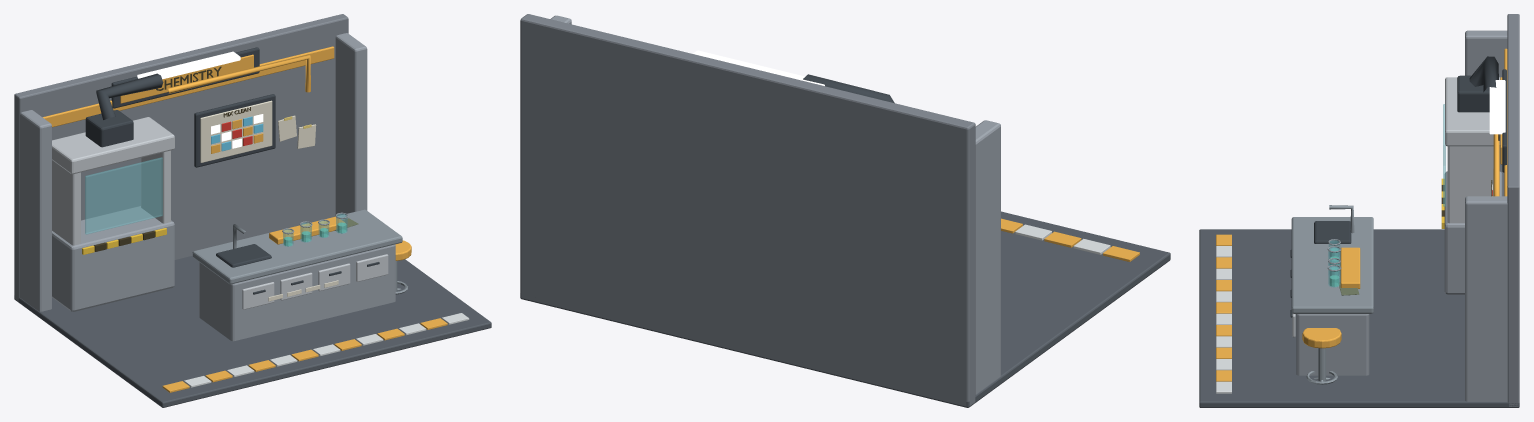
File: department_chemistry_starter.glb
3 views of the same model, side by side, from view 1: azimuth 30°, elevation 25°; view 2: azimuth 150°, elevation 25°; view 3: azimuth 270°, elevation 25° (orthographic). The views are drawn at different scales.
Parts seen in each view (by area): view 1: DEPT_Chemistry__Back_Wall, DEPT_Chemistry__Floor, DEPT_Chemistry__Fume_Hood_Base, DEPT_Chemistry__Island_Body, DEPT_Chemistry__Left_Pilaster, DEPT_Chemistry__Right_Pilaster, DEPT_Chemistry__Island_Worktop, DEPT_Chemistry__Fume_Hood_Glass, DEPT_Chemistry__Fume_Hood_Top, DEPT_Chemistry__Safety_Chart_Paper, DEPT_Chemistry__Back_Wall_Accent, DEPT_Chemistry__Fume_Hood_Post_Left (+14 smaller); view 2: DEPT_Chemistry__Back_Wall, DEPT_Chemistry__Floor, DEPT_Chemistry__Left_Pilaster, DEPT_Chemistry__Fume_Exhaust_Duct, DEPT_Chemistry__Ceiling_Light; view 3: DEPT_Chemistry__Floor, DEPT_Chemistry__Right_Pilaster, DEPT_Chemistry__Island_Worktop, DEPT_Chemistry__Back_Wall, DEPT_Chemistry__Island_Body, DEPT_Chemistry__Fume_Hood_Post_Right, DEPT_Chemistry__Fume_Hood_Top, DEPT_Chemistry__Fume_Hood_Base, DEPT_Chemistry__Left_Pilaster, DEPT_Chemistry__Fume_Hood_Extractor, DEPT_Chemistry__Ceiling_Light, DEPT_Chemistry__Bottle_Rack (+6 smaller).
Part boxes in pixels (x1,y1,x2,y2): DEPT_Chemistry__Back_Wall: (14, 14, 348, 301); DEPT_Chemistry__Floor: (14, 256, 491, 407); DEPT_Chemistry__Fume_Hood_Base: (52, 206, 174, 311); DEPT_Chemistry__Island_Body: (199, 244, 395, 341); DEPT_Chemistry__Left_Pilaster: (20, 110, 51, 311); DEPT_Chemistry__Right_Pilaster: (335, 33, 367, 215); DEPT_Chemistry__Island_Worktop: (192, 209, 402, 284); DEPT_Chemistry__Fume_Hood_Glass: (85, 157, 162, 234); DEPT_Chemistry__Fume_Hood_Top: (52, 117, 174, 174); DEPT_Chemistry__Safety_Chart_Paper: (200, 100, 272, 162); DEPT_Chemistry__Back_Wall_Accent: (42, 46, 334, 127); DEPT_Chemistry__Fume_Hood_Post_Left: (52, 160, 80, 245); DEPT_Chemistry__Back_Wall: (520, 14, 975, 406); DEPT_Chemistry__Floor: (520, 211, 1170, 407); DEPT_Chemistry__Left_Pilaster: (975, 120, 1000, 394); DEPT_Chemistry__Fume_Exhaust_Duct: (803, 74, 894, 103); DEPT_Chemistry__Ceiling_Light: (693, 50, 824, 85); DEPT_Chemistry__Floor: (1199, 229, 1519, 407); DEPT_Chemistry__Right_Pilaster: (1465, 196, 1507, 401); DEPT_Chemistry__Island_Worktop: (1291, 217, 1373, 313); DEPT_Chemistry__Back_Wall: (1507, 14, 1519, 406); DEPT_Chemistry__Island_Body: (1296, 314, 1369, 375); DEPT_Chemistry__Fume_Hood_Post_Right: (1447, 146, 1493, 223); DEPT_Chemistry__Fume_Hood_Top: (1445, 77, 1500, 146); DEPT_Chemistry__Fume_Hood_Base: (1444, 171, 1502, 294); DEPT_Chemistry__Left_Pilaster: (1465, 30, 1507, 196); DEPT_Chemistry__Fume_Hood_Extractor: (1457, 75, 1489, 112); DEPT_Chemistry__Ceiling_Light: (1489, 80, 1505, 134); DEPT_Chemistry__Bottle_Rack: (1340, 247, 1360, 288).
Bounding box in the file's own units: 4.6 × 2.75 × 3.6.
